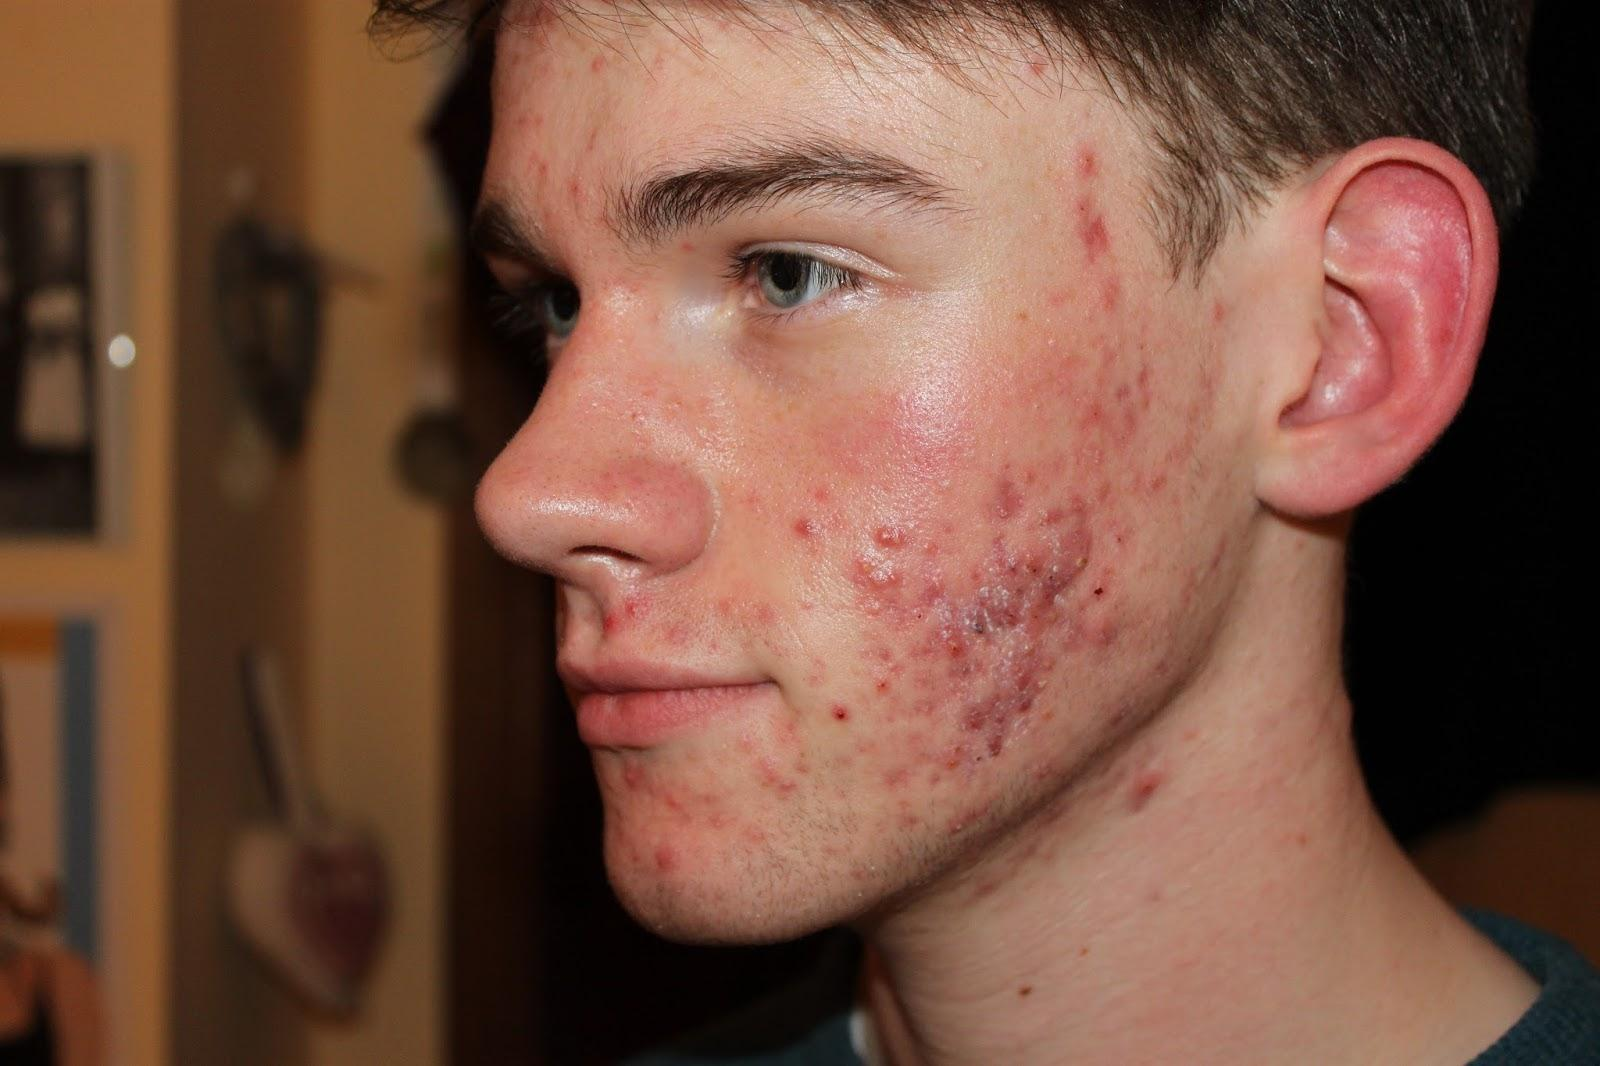Acne: (776, 506, 1225, 770), (1018, 128, 1225, 490), (615, 769, 803, 877), (506, 48, 621, 208), (606, 596, 779, 658)
